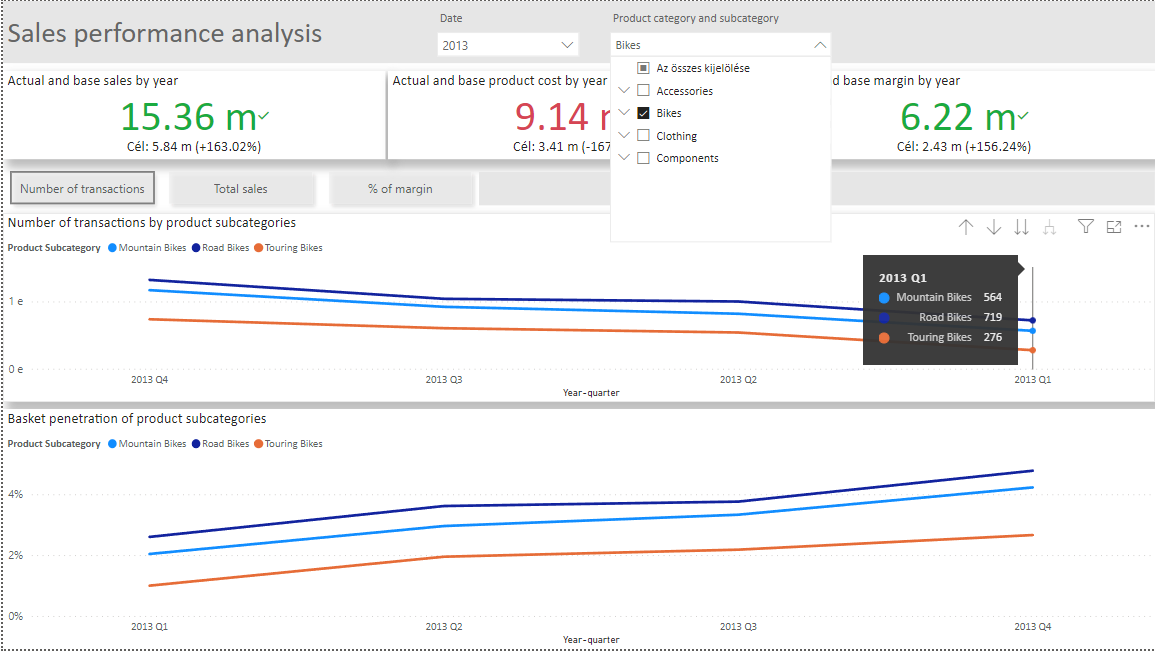

This screenshot's page, from the dashboard's own definition file:
{"tool":"powerbi","page":{"name":"Transactions - Sales","canvas":[1280,720],"ordinal":0},"visuals":[{"type":"kpi","title":"Actual and base sales by year","fields":{"Indicator":["MeasureTable.ActualPeriodTotalSales"],"Goal":["MeasureTable.BasePeriodTotalSales"],"TrendLine":["DimDate.DateHierarchy.CalendarYear"]},"box":[0,78,424.5,98],"z":0,"group":"g1"},{"type":"kpi","title":"Actual and base product cost by year","fields":{"TrendLine":["DimDate.DateHierarchy.CalendarYear"],"Indicator":["MeasureTable.ActualPeriodTotalCost"],"Goal":["MeasureTable.BasePeriodTotalCost"]},"box":[427.7,78,424.5,98],"z":1000,"group":"g1"},{"type":"shape","title":"Box","box":[0,0,1280,69.1],"z":2000},{"type":"kpi","title":"Actual and base margin by year","fields":{"Indicator":["MeasureTable.ActualPeriodTotalMargin"],"Goal":["MeasureTable.BasePeriodTotalMargin"],"TrendLine":["DimDate.DateHierarchy.CalendarYear"]},"box":[855.5,78,424.5,98],"z":2000,"group":"g1"},{"type":"textbox","title":"Header","box":[0,9.7,554.4,50.6],"z":3000},{"type":"slicer","title":"Category/subcategory slicer","fields":{"Values":["DimProduct.CategoryHierarchy.Product Category","DimProduct.CategoryHierarchy.Product Subcategory"]},"box":[664.1,5.3,266.3,59.9],"z":4000},{"type":"slicer","title":"Date slicer","fields":{"Values":["DimDate.DateHierarchy.CalendarYear","DimDate.DateHierarchy.Year-quarter","DimDate.DateHierarchy.Year-month"]},"box":[472.6,5.3,177.5,59.9],"z":5000},{"type":"group","id":"g1","title":"KPI cards","box":[0,78,1280,98],"z":6000},{"type":"lineChart","title":"Number of transactions by product subcategories","fields":{"Category":["DimDate.DateHierarchy.CalendarYear","DimDate.DateHierarchy.Year-quarter","DimDate.DateHierarchy.Year-month","DimDate.DateHierarchy.Month-day"],"Series":["DimProduct.CategoryHierarchy.Product Subcategory"],"Y":["MeasureTable.NumberOfTransactions"]},"box":[0,235.3,1280,210.2],"z":7000},{"type":"lineChart","title":"Basket penetration of product subcategories","fields":{"Y":["MeasureTable.CategoryBasketPenetration"],"Category":["DimDate.DateHierarchy.CalendarYear","DimDate.DateHierarchy.Year-quarter","DimDate.DateHierarchy.Year-month","DimDate.DateHierarchy.Month-day"],"Series":["DimProduct.CategoryHierarchy.Product Subcategory"]},"box":[0,453.1,1280,266.9],"z":8000},{"type":"card","title":"Message","fields":{"Values":["MeasureTable.Message"]},"box":[0,504,1280,184],"z":9000},{"type":"actionButton","title":"Number of transactions button","box":[0,181,176,53],"z":10000},{"type":"actionButton","title":"Total sales button","box":[176,181,177,53],"z":11000},{"type":"actionButton","title":"%margin button","box":[353,181,176,53],"z":12000},{"type":"shape","title":"Box","box":[528.9,190,751.1,36.7],"z":13000},{"type":"shape","box":[7.5,188.8,160.8,37.1],"z":14000}]}

Visuals, with their boxes in screenshot pixels (x1, y1, x2, y2), scaled from the page's 1280x720 canvas onto the 1155x651 screenshot:
"Actual and base sales by year" kpi: 0/71/383/159
"Actual and base product cost by year" kpi: 386/71/769/159
"Box" shape: 0/0/1154/62
"Actual and base margin by year" kpi: 772/71/1154/159
"Header" textbox: 0/9/500/55
"Category/subcategory slicer" slicer: 599/5/840/59
"Date slicer" slicer: 426/5/587/59
"KPI cards" group: 0/71/1154/159
"Number of transactions by product subcategories" lineChart: 0/213/1154/403
"Basket penetration of product subcategories" lineChart: 0/410/1154/650
"Message" card: 0/456/1154/622
"Number of transactions button" actionButton: 0/164/159/212
"Total sales button" actionButton: 159/164/319/212
"%margin button" actionButton: 319/164/477/212
"Box" shape: 477/172/1154/205
shape: 7/171/152/204
